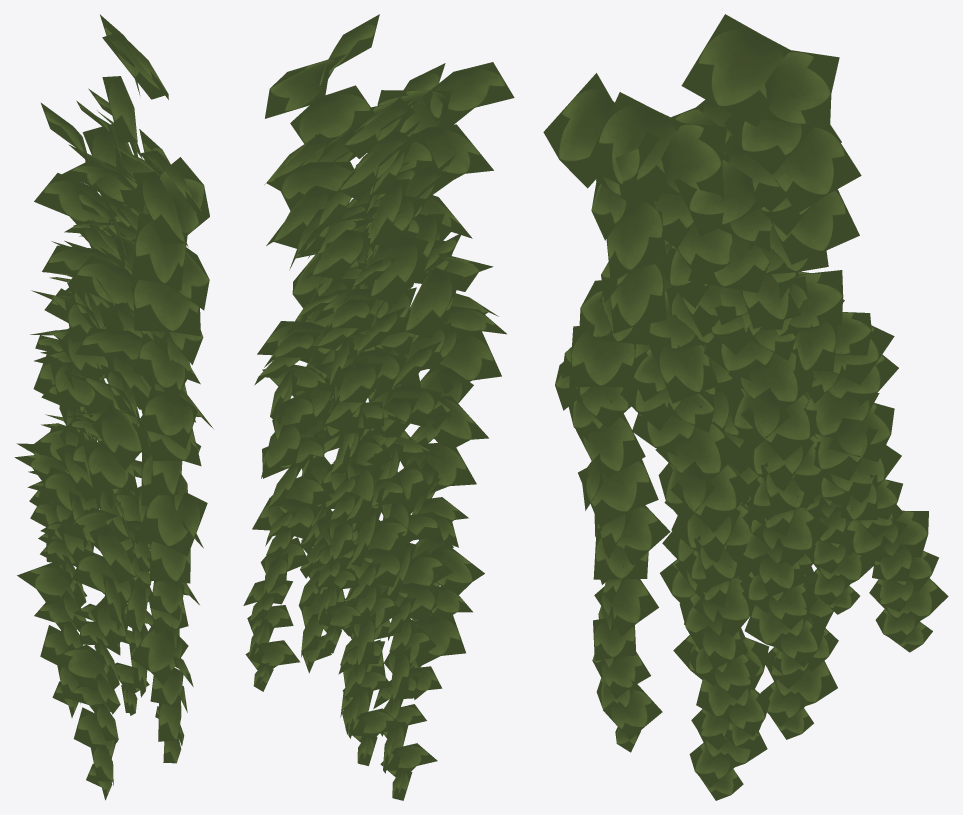
File: SM_Ivy_2.fbx
The picture shows the model from 3 angles, left to right: view 1: azimuth 30°, elevation 25°; view 2: azimuth 150°, elevation 25°; view 3: azimuth 270°, elevation 25°; orthographic projection. The views are drawn at different scales.
Parts seen in each view (by area): view 1: SM_Ivy_2_LOD0; view 2: SM_Ivy_2_LOD0; view 3: SM_Ivy_2_LOD0.
Boxes of the visible parts, x1,y1,x2,y2 form: SM_Ivy_2_LOD0: [14, 14, 213, 800]; SM_Ivy_2_LOD0: [243, 14, 514, 800]; SM_Ivy_2_LOD0: [543, 14, 948, 800].
Size of the model in its own units: 41.73 by 111 by 242.
1 material, 1 textured.
